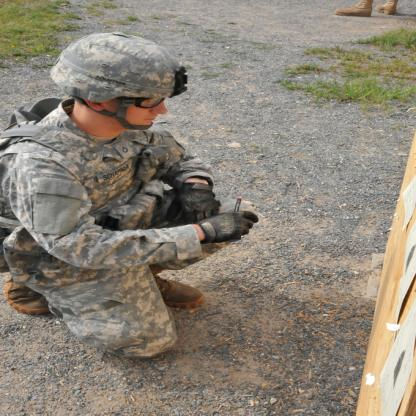Helmet: (51, 29, 184, 130)
